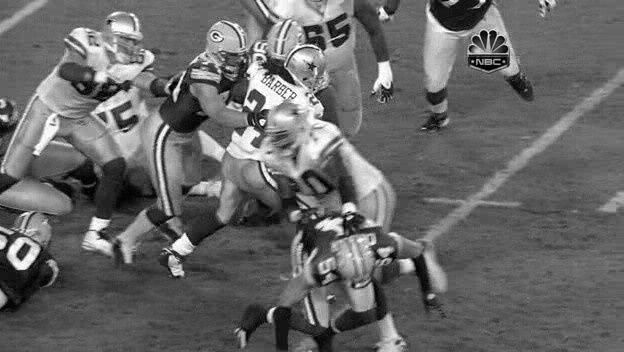person: (290, 47, 325, 92), (289, 47, 324, 92), (291, 47, 326, 92), (290, 46, 325, 91), (290, 48, 325, 93)
target_negative: (47, 227, 577, 270), (360, 87, 377, 298), (359, 231, 419, 286), (485, 258, 487, 343), (298, 300, 310, 306), (257, 240, 266, 244)
